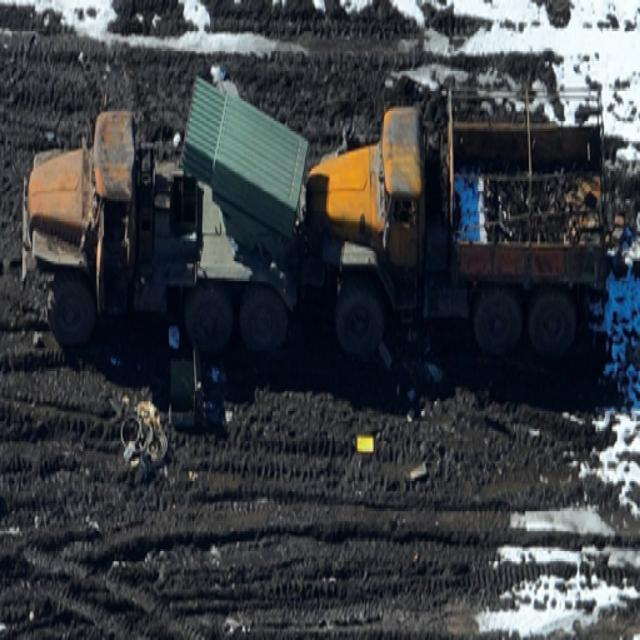MLRS: (18, 73, 304, 354)
TRUCK: (308, 82, 608, 365)
